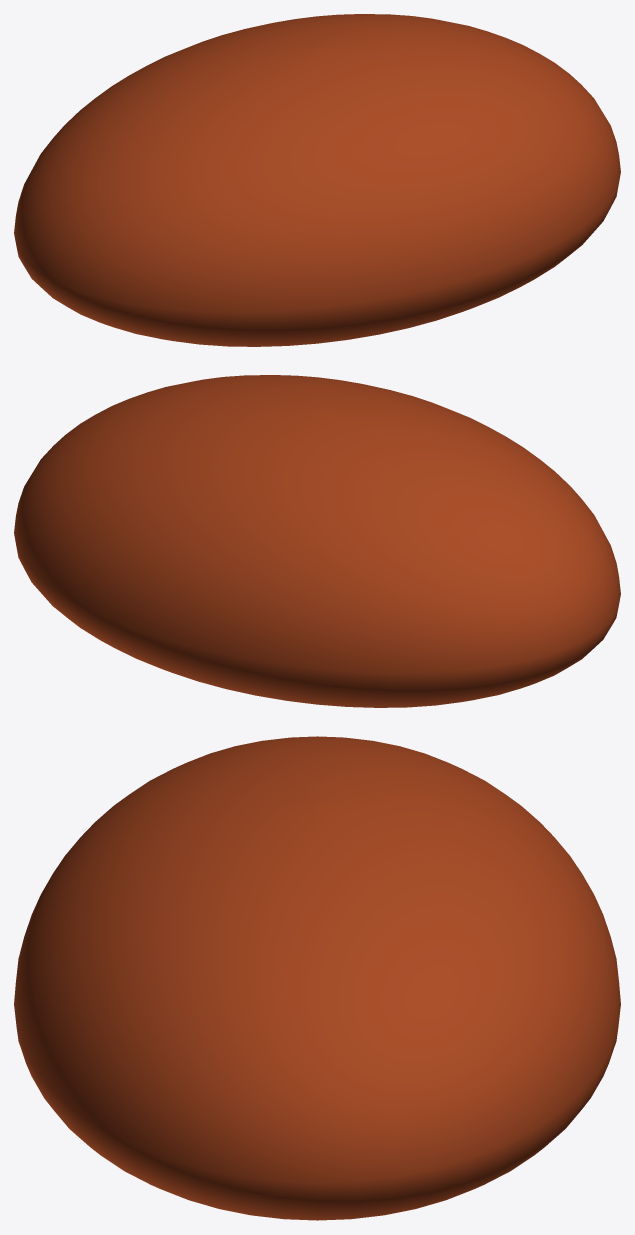
The model's file is jewelry.glb.
3 views of the same model, one above another, from view 1: azimuth 30°, elevation 25°; view 2: azimuth 150°, elevation 25°; view 3: azimuth 270°, elevation 25° (orthographic). The views are drawn at different scales.
Parts seen in each view (by area): view 1: carnelian; view 2: carnelian; view 3: carnelian.
Part boxes in pixels (x1,y1,x2,y2): carnelian: (14, 14, 620, 346); carnelian: (14, 375, 620, 707); carnelian: (14, 736, 620, 1220).
Bounding box in the file's own units: 2.36 × 1 × 1.7.
